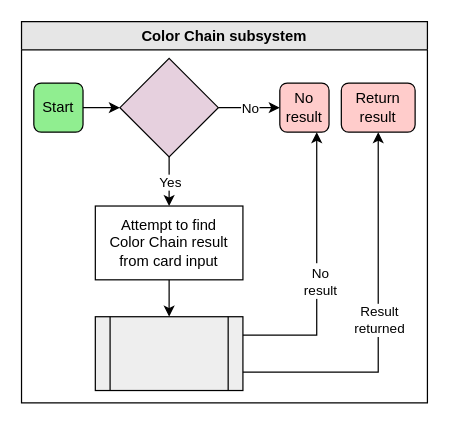
This 449x424 diagram has some shape labels left out. Here are the shapes that lost their labels. From the top down, the box of each, then its label:
(119, 57, 218, 157): Are NP types all the same?
(94, 315, 243, 391): Brave Chain decision tree
